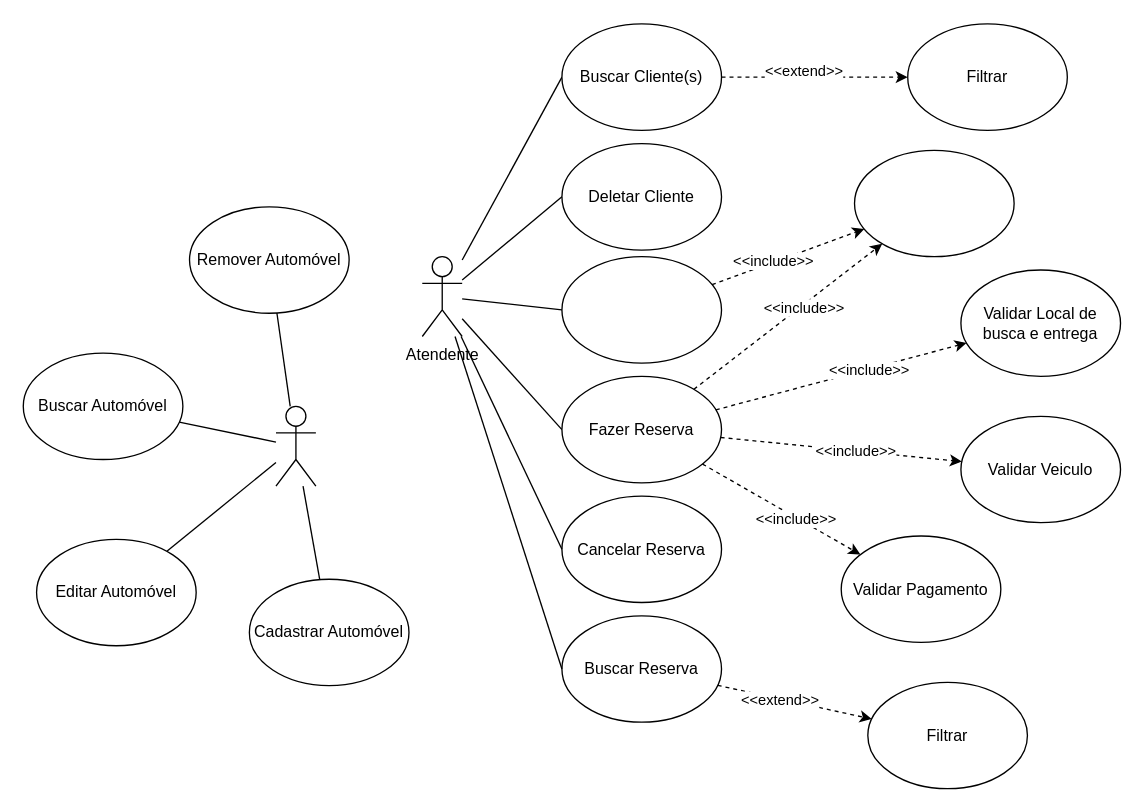
The diagram is 1144 pixels wide and 811 high, and some of its shapes have lost their labels. The centre of each missing label's shape, as x and y in pixels:
Cadastrar/Atualizar Cliente: the point at 641,309
Dep. Frota: the point at 295,445
Validar Cliente: the point at 933,203
